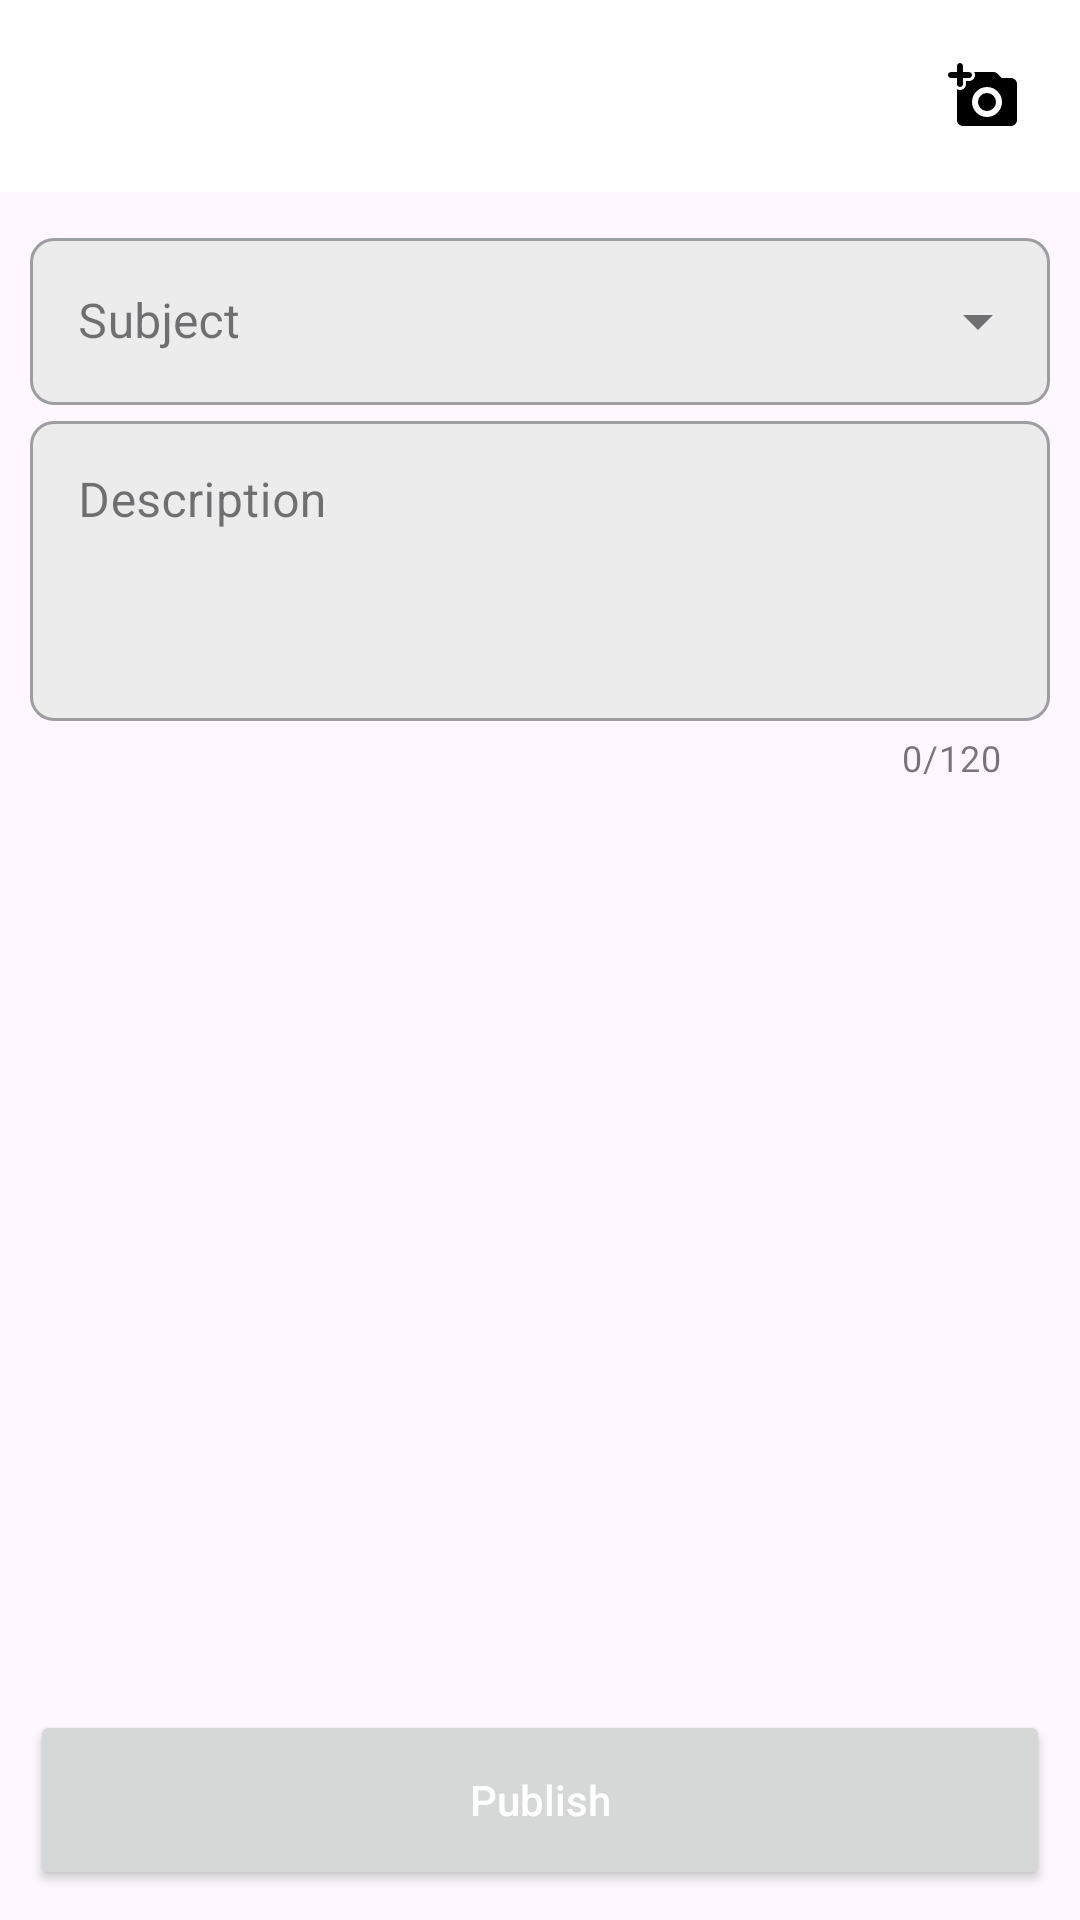

Named icons in this screenshot (1080w x 1920h) and their bounding boxes, (x1, y1, x2, y2):
add cam: (948, 63, 1017, 126)
